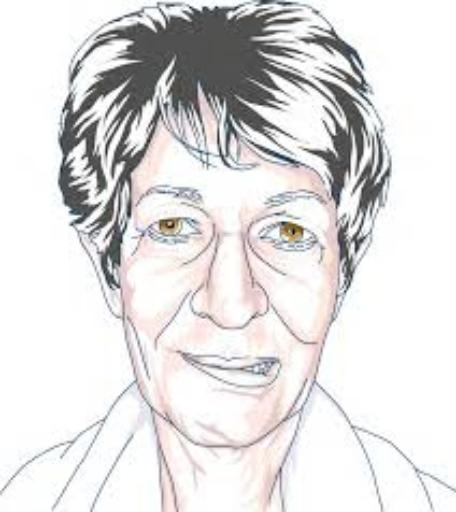left_eye: (261, 219, 322, 254)
left_lip_corner: (270, 354, 286, 373)
right_eye: (145, 213, 208, 245)
right_lip_corner: (171, 343, 214, 374)
